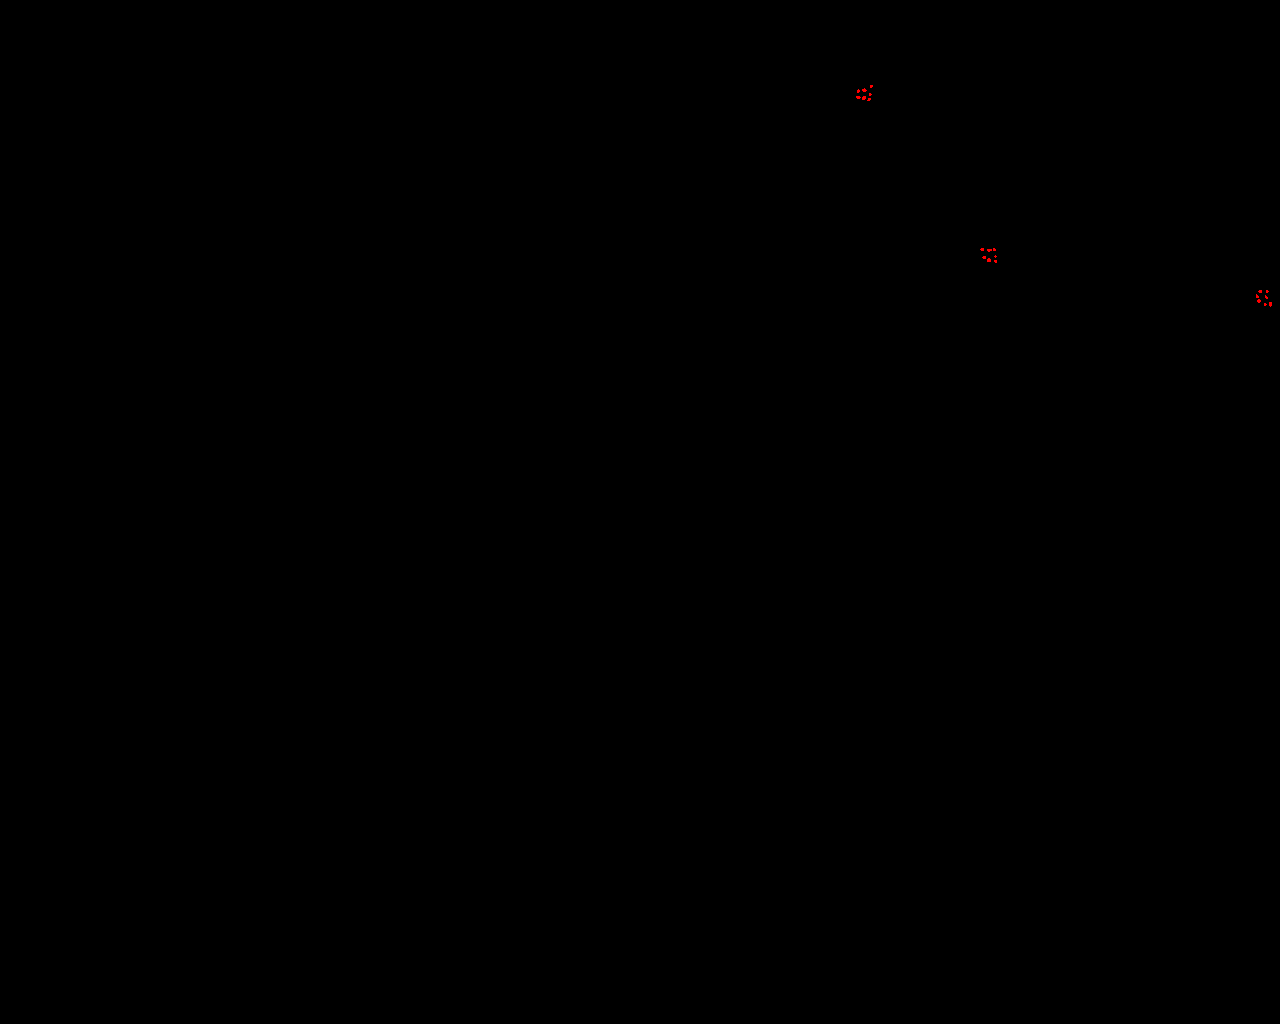Target: (862, 88, 867, 92), (862, 96, 866, 100), (1257, 299, 1261, 303), (856, 96, 861, 99), (1269, 302, 1272, 307), (857, 89, 860, 93), (867, 98, 871, 101), (980, 248, 984, 251), (987, 249, 992, 252), (982, 256, 986, 259), (987, 258, 991, 262), (1256, 294, 1259, 298), (1265, 295, 1269, 299), (869, 93, 872, 96), (993, 248, 996, 251), (994, 255, 997, 258), (994, 260, 997, 263), (1264, 303, 1267, 306), (1258, 290, 1262, 293), (870, 85, 872, 88), (1266, 290, 1269, 293)
